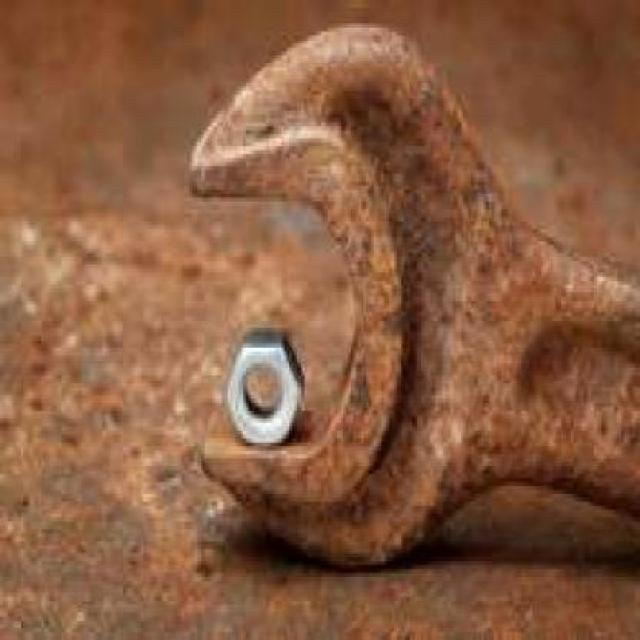corrosion: (189, 20, 640, 569)
